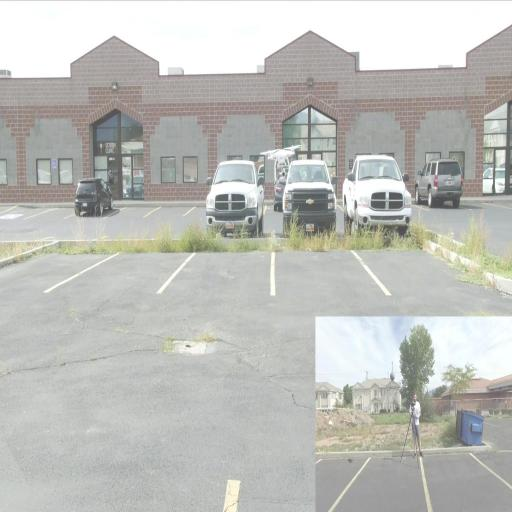drone: (260, 145, 301, 183)
